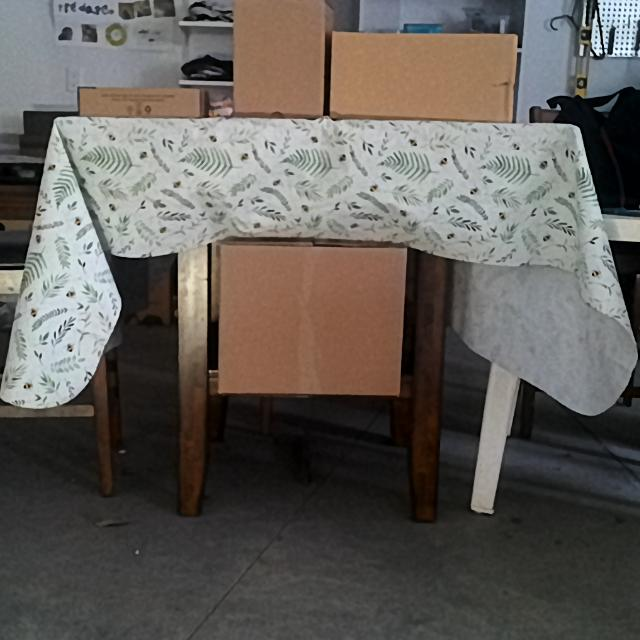box: (222, 247, 402, 394), (330, 36, 517, 118), (233, 0, 325, 115), (78, 87, 201, 116)
